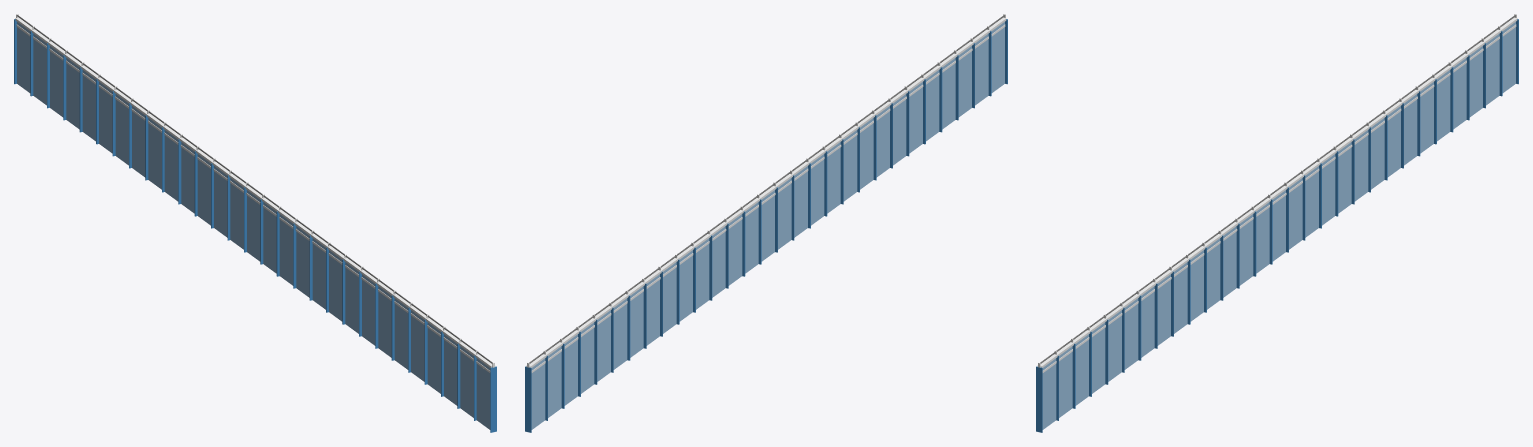
The model's file is Pedestrian Deck fence.fbx.
3 views of the same model, side by side, from view 1: azimuth 30°, elevation 25°; view 2: azimuth 150°, elevation 25°; view 3: azimuth 330°, elevation 25° (orthographic).
Visible parts, largest first — view 1: Cube, 立方体, 立方体.002, 立方体.004, 円柱; view 2: Cube, 立方体, 立方体.002, 立方体.004, 円柱; view 3: Cube, 立方体, 立方体.002, 立方体.004, 円柱.
Boxes of the visible parts, x1,y1,x2,y2 form: Cube: (17,22,490,429); 立方体: (14,19,496,432); 立方体.002: (15,17,495,367); 立方体.004: (16,24,490,372); 円柱: (17,15,492,363); Cube: (531,22,1004,429); 立方体: (525,19,1007,432); 立方体.002: (526,17,1006,367); 立方体.004: (531,24,1005,372); 円柱: (529,15,1004,363); Cube: (1042,22,1515,429); 立方体: (1036,19,1518,432); 立方体.002: (1037,17,1517,367); 立方体.004: (1042,24,1516,372); 円柱: (1040,15,1515,363).
Size of the model in its own units: 30 by 320 by 4006.
